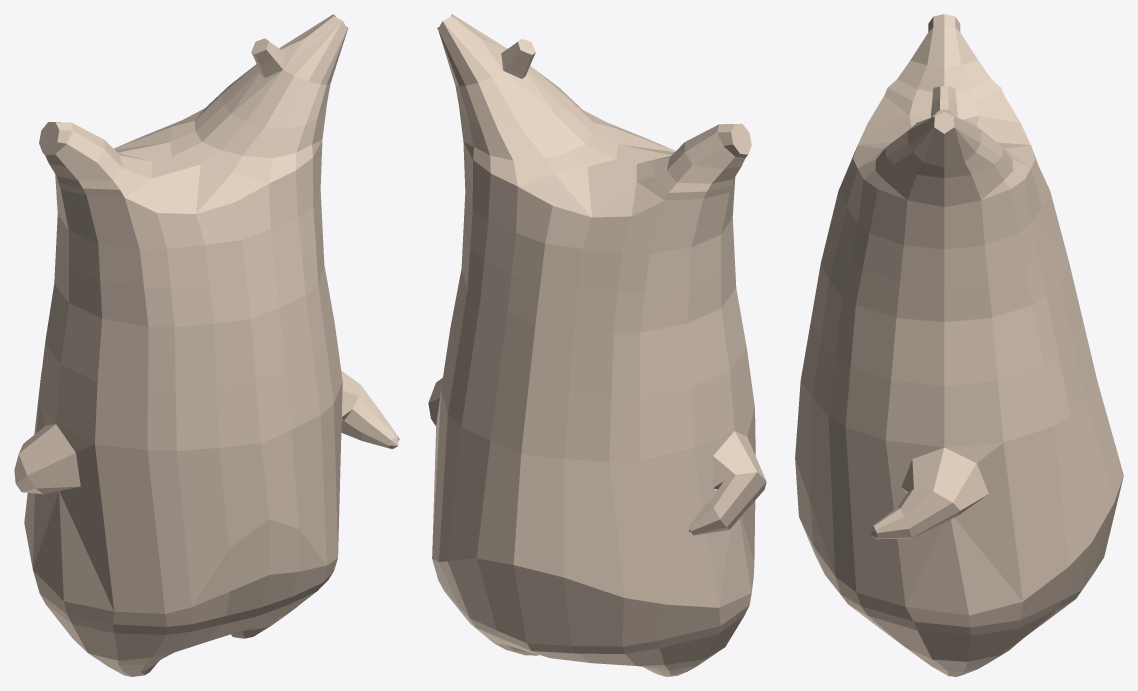
Rendered from frame_0038.obj.
3 views of the same model, side by side, from view 1: azimuth 30°, elevation 25°; view 2: azimuth 150°, elevation 25°; view 3: azimuth 270°, elevation 25° (orthographic).
Parts seen in each view (by area): view 1: korok; view 2: korok; view 3: korok.
Boxes of the visible parts, x1,y1,x2,y2 form: korok: (14,14,399,676); korok: (428,14,766,676); korok: (795,14,1123,676).
Size of the model in its own units: 1.27 by 2.16 by 1.06.
